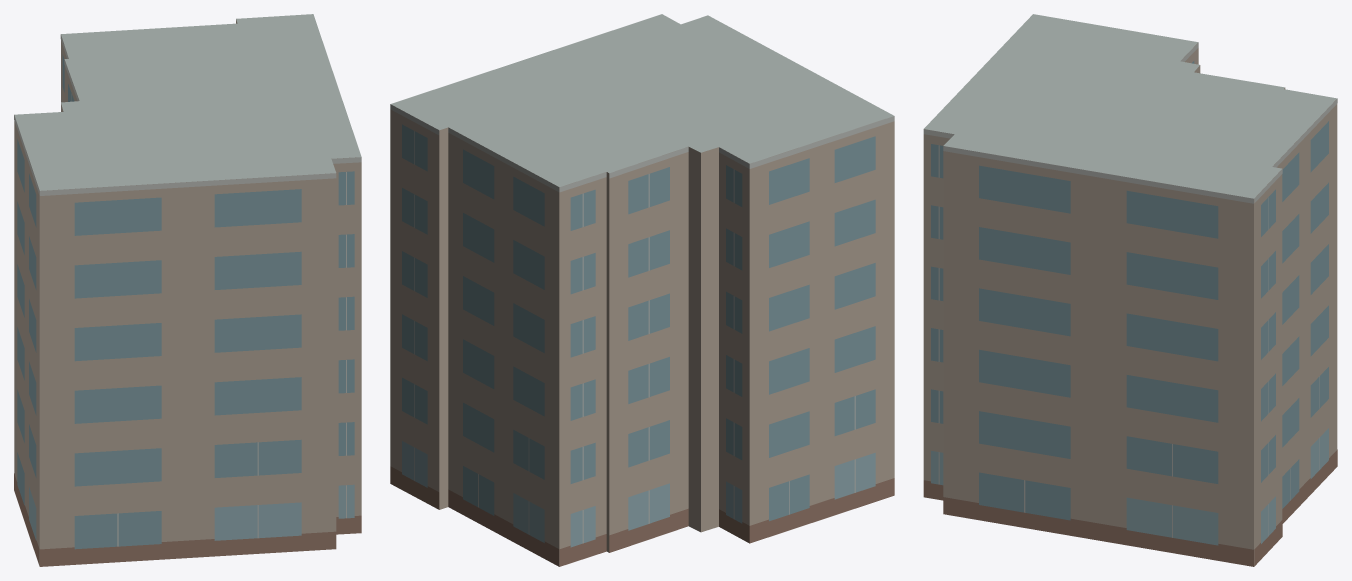
File: survey-upis-32989500.glb
The picture shows the model from 3 angles, left to right: view 1: azimuth 30°, elevation 25°; view 2: azimuth 150°, elevation 25°; view 3: azimuth 270°, elevation 25°; orthographic projection. The views are drawn at different scales.
Parts seen in each view (by area): view 1: survey-upis-32989500.tmp; view 2: survey-upis-32989500.tmp; view 3: survey-upis-32989500.tmp.
Part boxes in pixels (<box>): survey-upis-32989500.tmp: <box>14,14,361,566</box>; survey-upis-32989500.tmp: <box>390,14,894,566</box>; survey-upis-32989500.tmp: <box>923,14,1337,566</box>.
Size of the model in its own units: 18.94 by 17.6 by 17.94.
